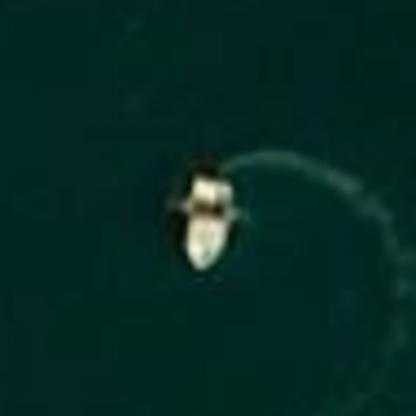ship: (162, 163, 265, 283)
